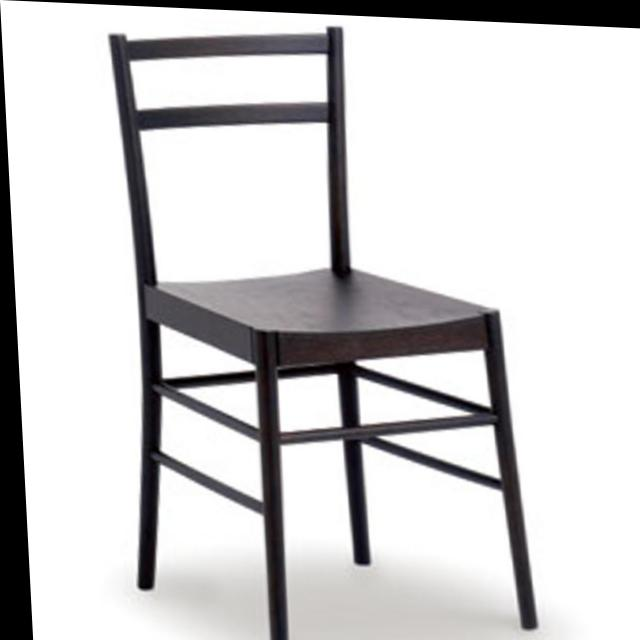Chair: (100, 11, 535, 640)
